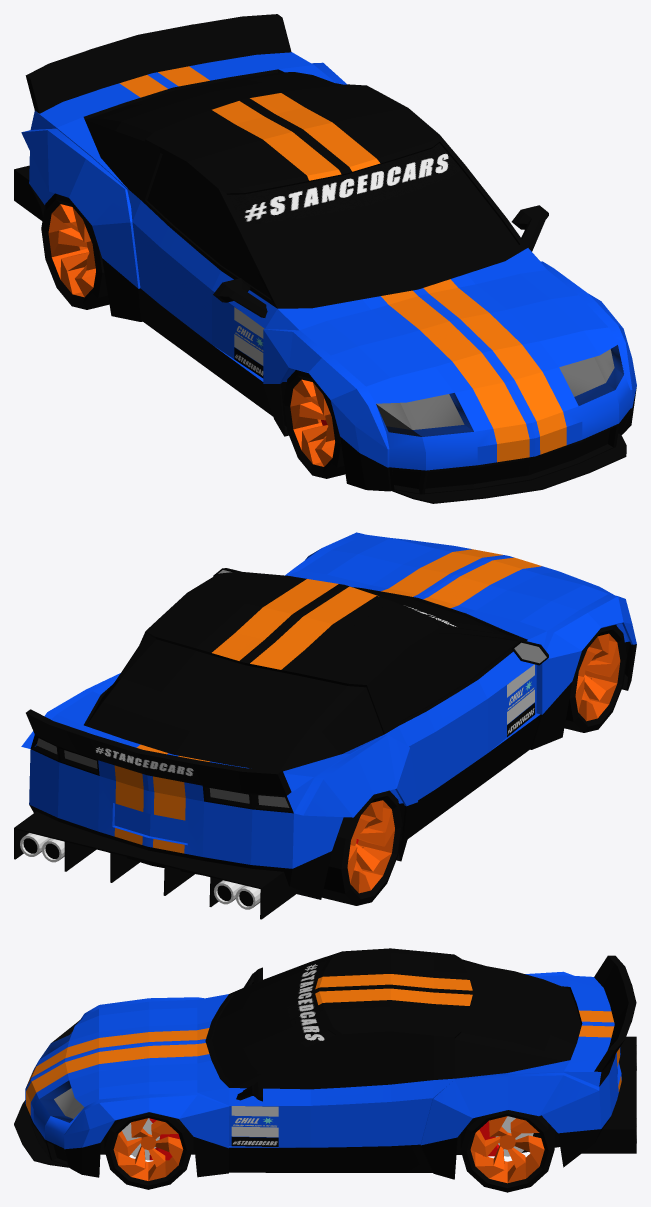
Rendered from low poly car muscle car 2 (stanced).fbx.
The picture shows the model from 3 angles, top to bottom: view 1: azimuth 30°, elevation 25°; view 2: azimuth 150°, elevation 25°; view 3: azimuth 270°, elevation 25°; orthographic projection. The views are drawn at different scales.
Parts seen in each view (by area): view 1: Muscle car 2.Body, 5.Wheel.Bk.R, 5.Wheel.Ft.R; view 2: Muscle car 2.Body, 5.Wheel.Bk.R, 5.Wheel.Ft.R; view 3: Muscle car 2.Body, 5.Wheel.Bk.L, 5.Wheel.Ft.L.
Boxes of the visible parts, <box> form: Muscle car 2.Body: <box>14,14,636,503</box>; 5.Wheel.Bk.R: <box>41,193,109,309</box>; 5.Wheel.Ft.R: <box>283,370,345,478</box>; Muscle car 2.Body: <box>14,532,636,919</box>; 5.Wheel.Bk.R: <box>321,790,402,905</box>; 5.Wheel.Ft.R: <box>564,625,626,732</box>; Muscle car 2.Body: <box>14,948,636,1179</box>; 5.Wheel.Bk.L: <box>460,1110,554,1192</box>; 5.Wheel.Ft.L: <box>104,1112,192,1189</box>.
Size of the model in its own units: 150 by 83.16 by 313.
